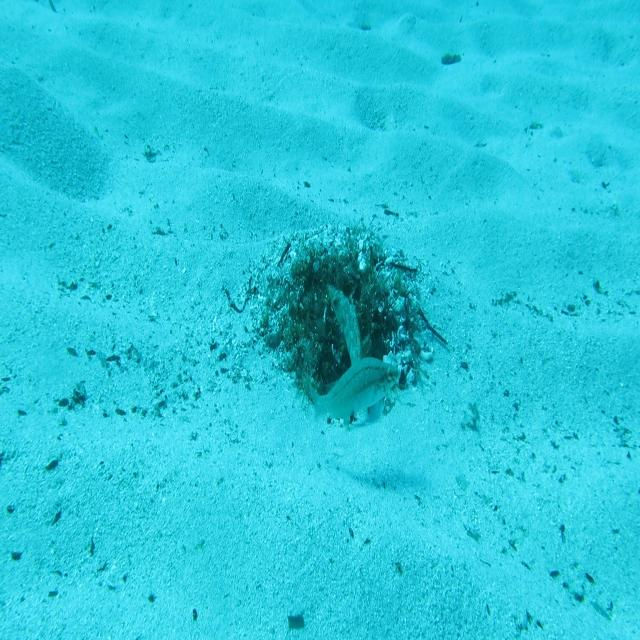LF: (326, 282, 372, 436)
core_nest: (308, 264, 358, 298)
female: (303, 355, 402, 429)
nest: (245, 209, 443, 440)
vegetation: (440, 50, 462, 70)
